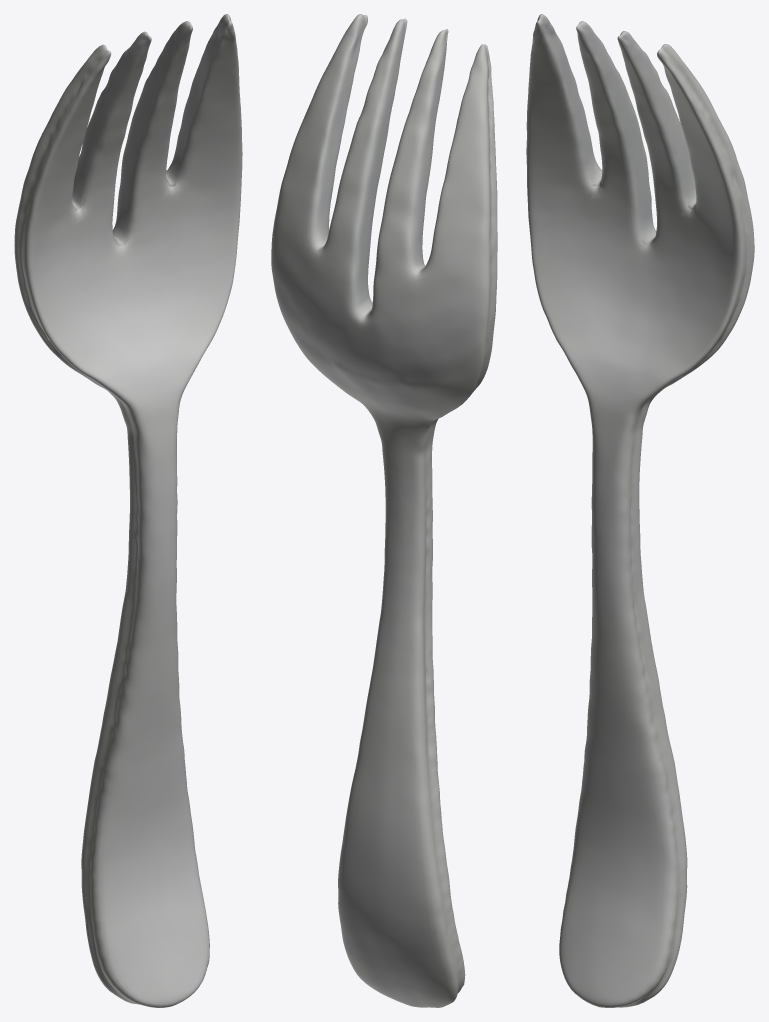
File: model_fish_fork.glb
The picture shows the model from 3 angles, left to right: view 1: azimuth 30°, elevation 25°; view 2: azimuth 150°, elevation 25°; view 3: azimuth 330°, elevation 25°; orthographic projection.
Visible parts, largest first — view 1: tripo_node_a0c81ee1-4595-4720-a551-e701802b6763; view 2: tripo_node_a0c81ee1-4595-4720-a551-e701802b6763; view 3: tripo_node_a0c81ee1-4595-4720-a551-e701802b6763.
Boxes of the visible parts, bbox=[...] form: tripo_node_a0c81ee1-4595-4720-a551-e701802b6763: bbox=[14, 14, 242, 1007]; tripo_node_a0c81ee1-4595-4720-a551-e701802b6763: bbox=[271, 14, 497, 1007]; tripo_node_a0c81ee1-4595-4720-a551-e701802b6763: bbox=[526, 14, 754, 1007].
Size of the model in its own units: 0.2318 by 0.9994 by 0.1215.
1 material, 1 textured.
